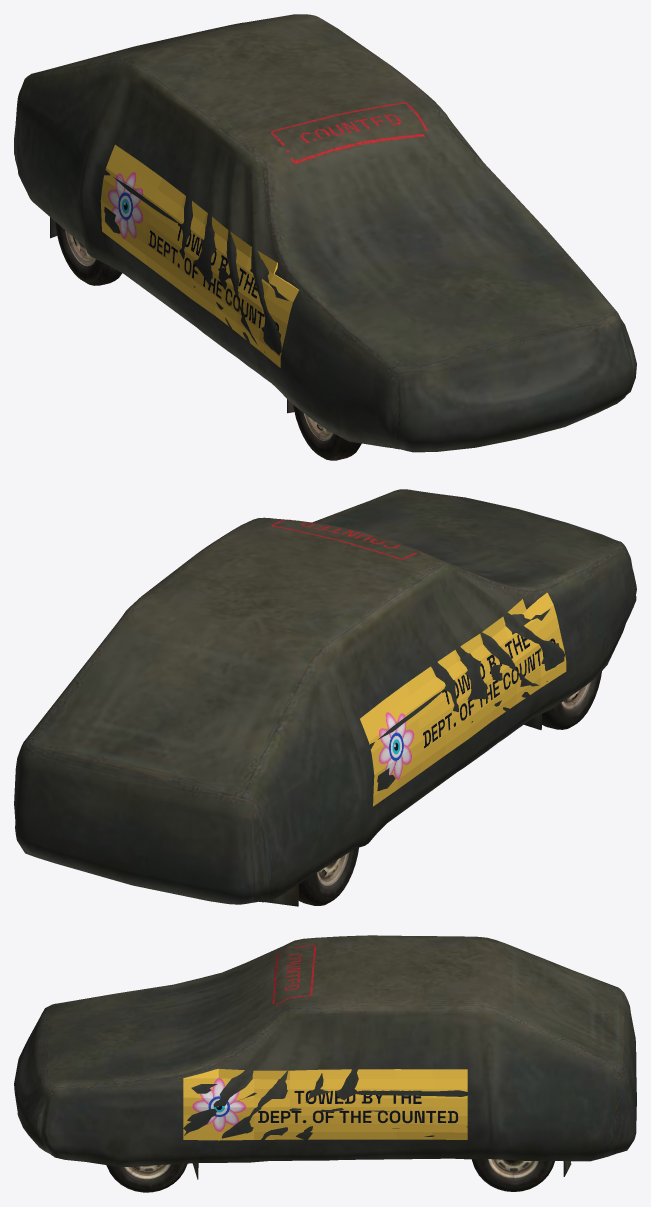
Rendered from nyb_clover_car.glb.
3 views of the same model, one above another, from view 1: azimuth 30°, elevation 25°; view 2: azimuth 150°, elevation 25°; view 3: azimuth 270°, elevation 25° (orthographic). The views are drawn at different scales.
Parts seen in each view (by area): view 1: covered_car_wheel_01, stk_lbl_efacd0a899.png.001, stk_counted.png; view 2: covered_car_wheel_01, stk_lbl_efacd0a899.png.001, stk_counted.png; view 3: covered_car_wheel_01, stk_lbl_efacd0a899.png, stk_counted.png.
Boxes of the visible parts, x1,y1,x2,y2 form: covered_car_wheel_01: (14,14,636,460); stk_lbl_efacd0a899.png.001: (100,144,298,367); stk_counted.png: (271,102,427,163); covered_car_wheel_01: (14,489,636,906); stk_lbl_efacd0a899.png.001: (360,592,566,806); stk_counted.png: (271,519,422,559); covered_car_wheel_01: (14,935,636,1192); stk_lbl_efacd0a899.png: (183,1068,467,1140); stk_counted.png: (272,945,315,1004).
Size of the model in its own units: 1.79 by 1.41 by 4.38.
5 materials, 5 textured.
